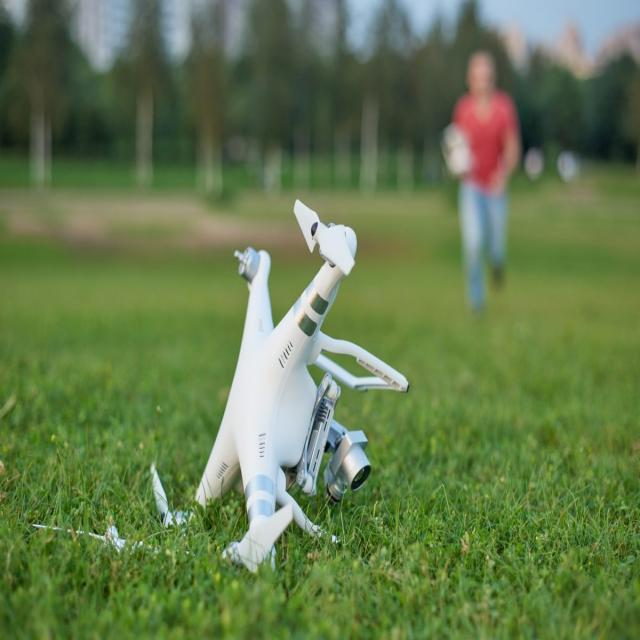drone: (136, 197, 430, 564)
